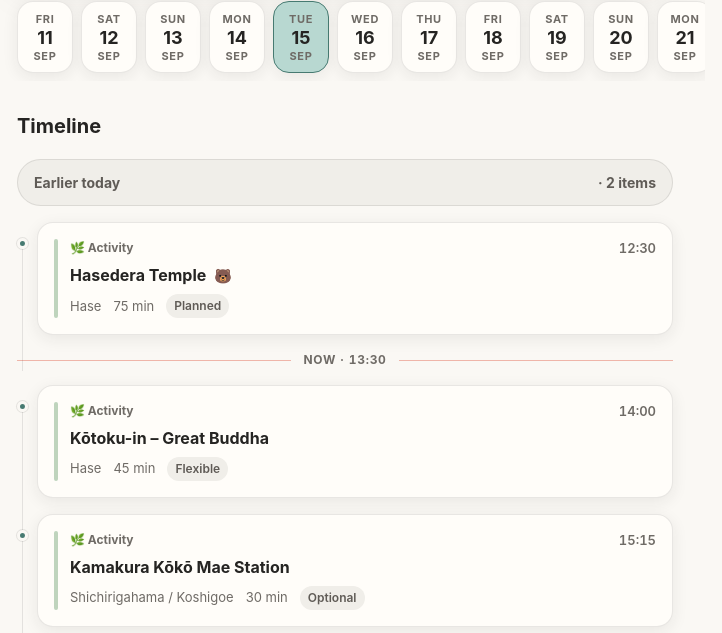
Test: TodayPage temporal awareness › expands earlier items in authored order
The width and height of the screenshot is (722, 633).
(page scrolled)
Click the button "Earlier today · 2 items" at point(77, 183), box 17,160 -> 673,206
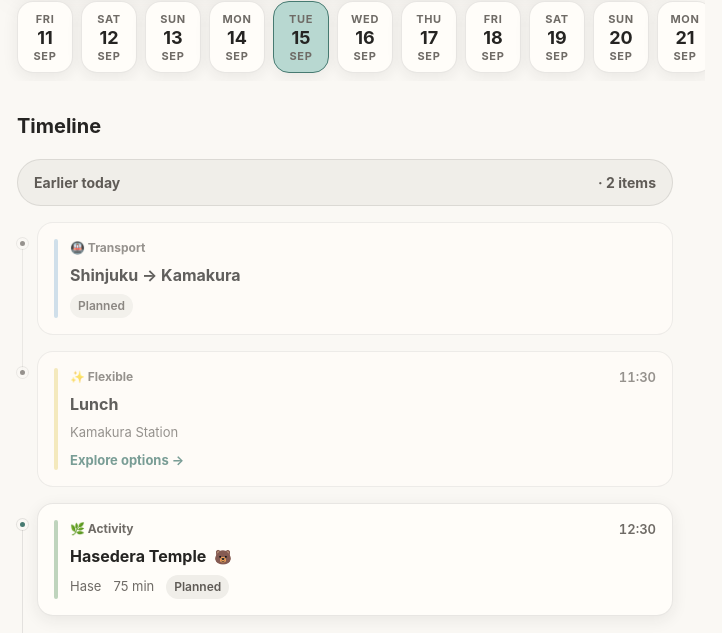
Now the list item "🚇 Transport Shinjuku → Kamakura Planned" is shown, box 17,222 -> 673,335
Now the list item "✨ Flexible Lunch Kamakura Station Explore options → 11:30" is shown, box 17,351 -> 673,487
